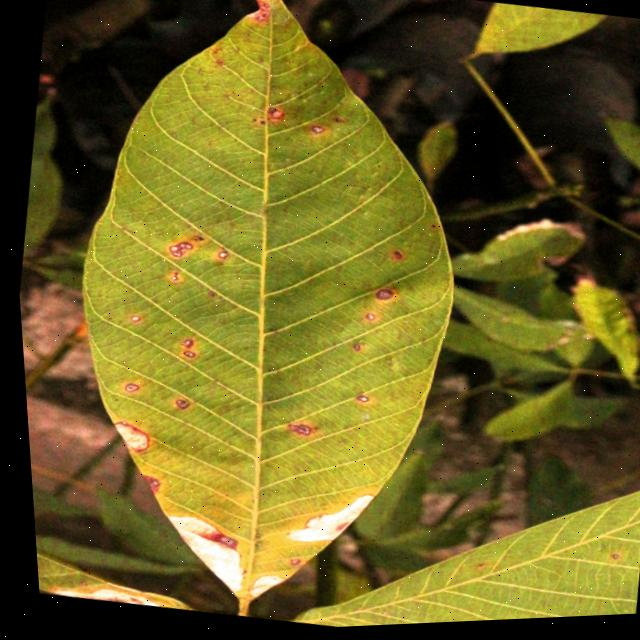Colletotrichum: (209, 536, 232, 550), (370, 290, 389, 304), (169, 399, 186, 412), (119, 383, 134, 394), (175, 350, 191, 360), (309, 126, 323, 137), (281, 559, 294, 568), (350, 397, 363, 406), (125, 315, 137, 323), (214, 253, 225, 260), (361, 316, 372, 323), (166, 246, 175, 253), (167, 276, 175, 282)
Leaf-Blight: (149, 512, 246, 598), (276, 484, 372, 555), (46, 579, 159, 612), (103, 421, 145, 454), (241, 573, 278, 603)
